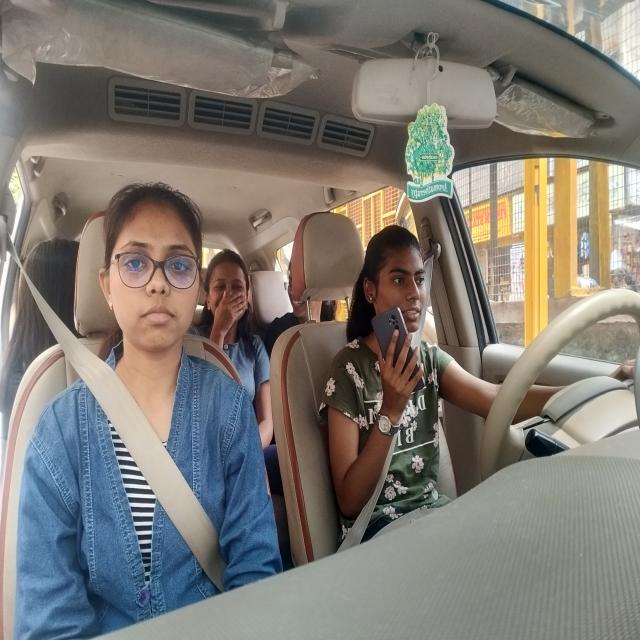mobile: (373, 299, 422, 395)
person: (89, 170, 211, 372), (353, 216, 437, 338), (201, 238, 256, 352)
